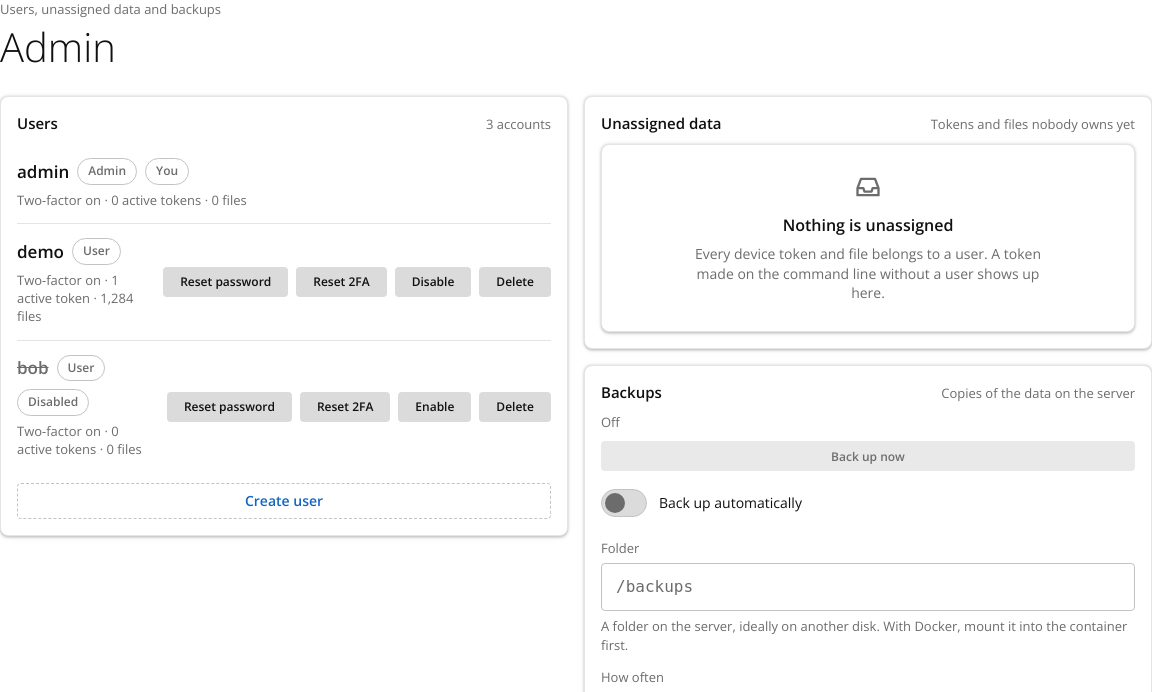
Scenario: Admin: users › disables with a confirmation and enables with one click; a refusal is shown
Click the button with aria-label "Disable demo" at coordinates (433, 282), box x1=395 y1=267 x2=471 y2=297
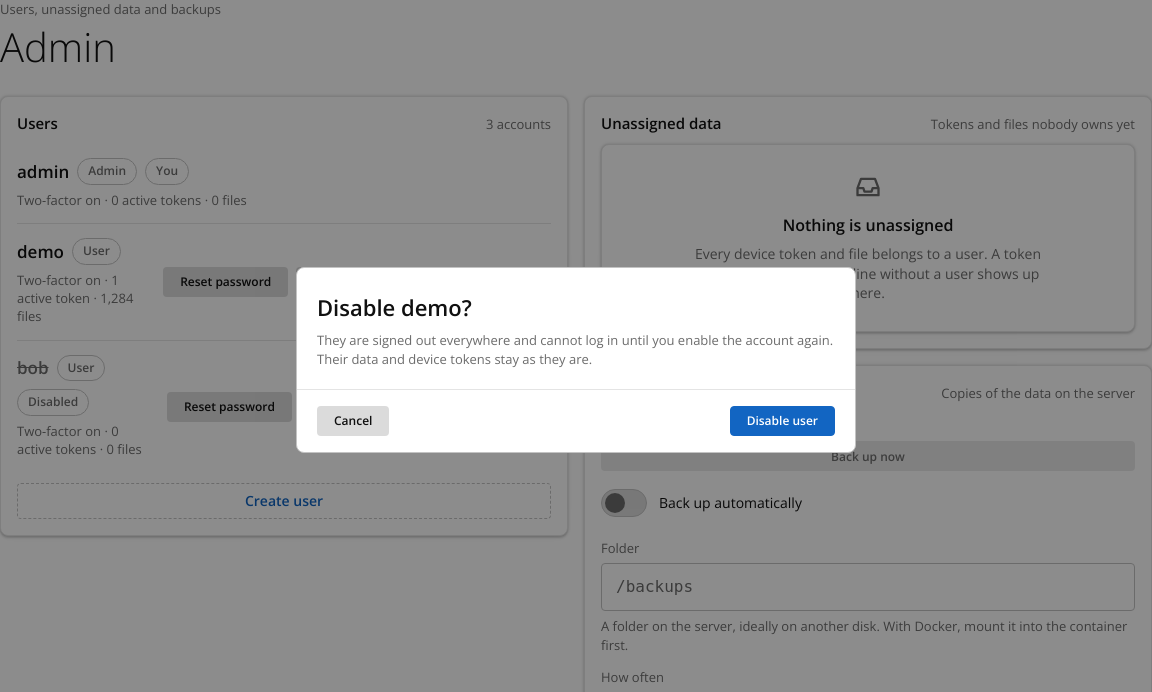
Click the button "Disable user" at coordinates (782, 421), box x1=730 y1=406 x2=835 y2=436
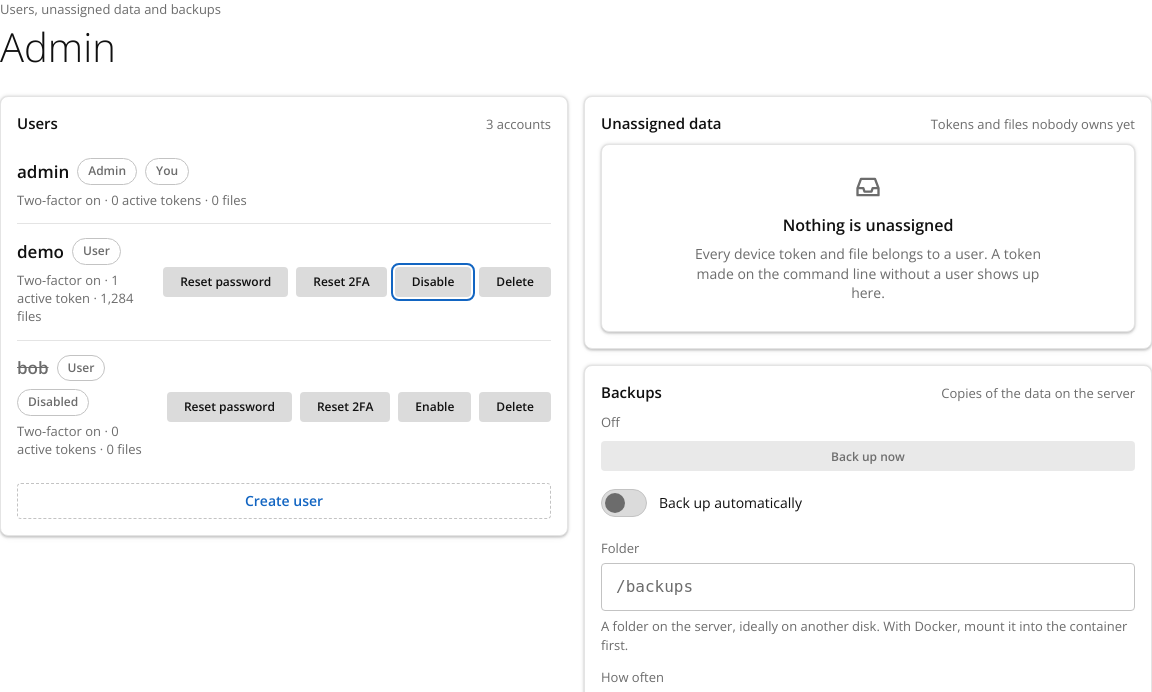
Expected: the dialog is gone
Click the button with aria-label "Enable bob" at coordinates (435, 406), box x1=398 y1=392 x2=471 y2=422
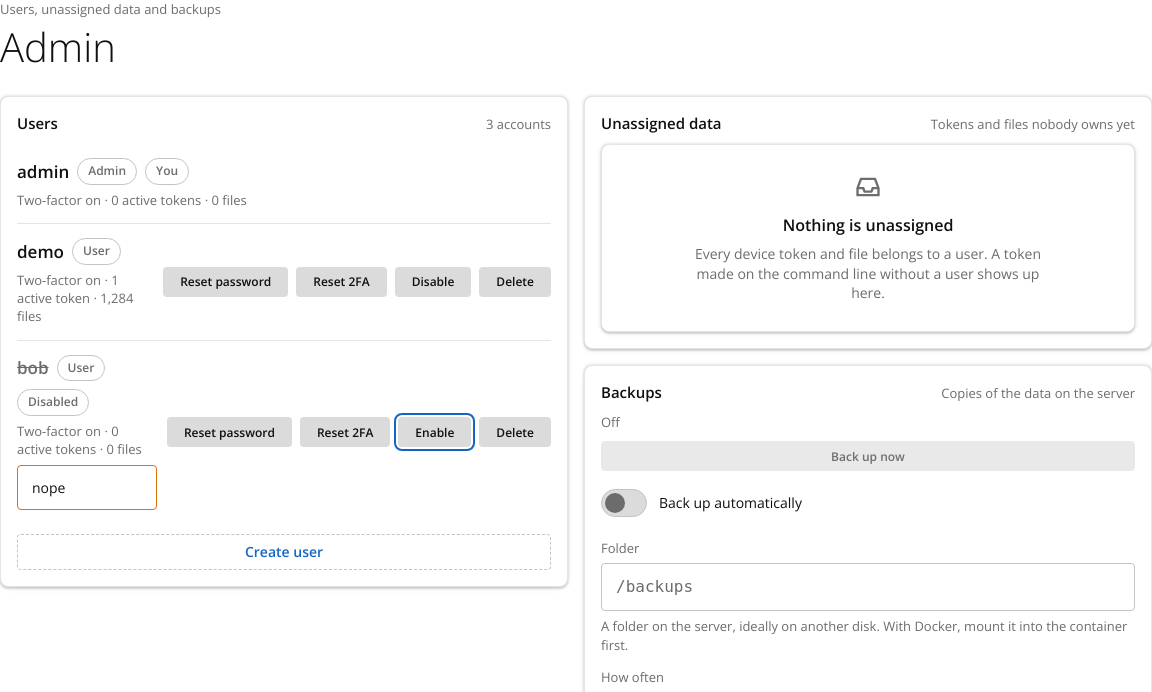
Expected: the message reads "nope", x1=32 y1=478 x2=65 y2=496
